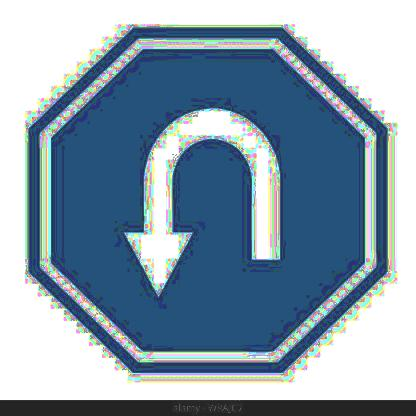U-turn: (31, 22, 387, 374)
